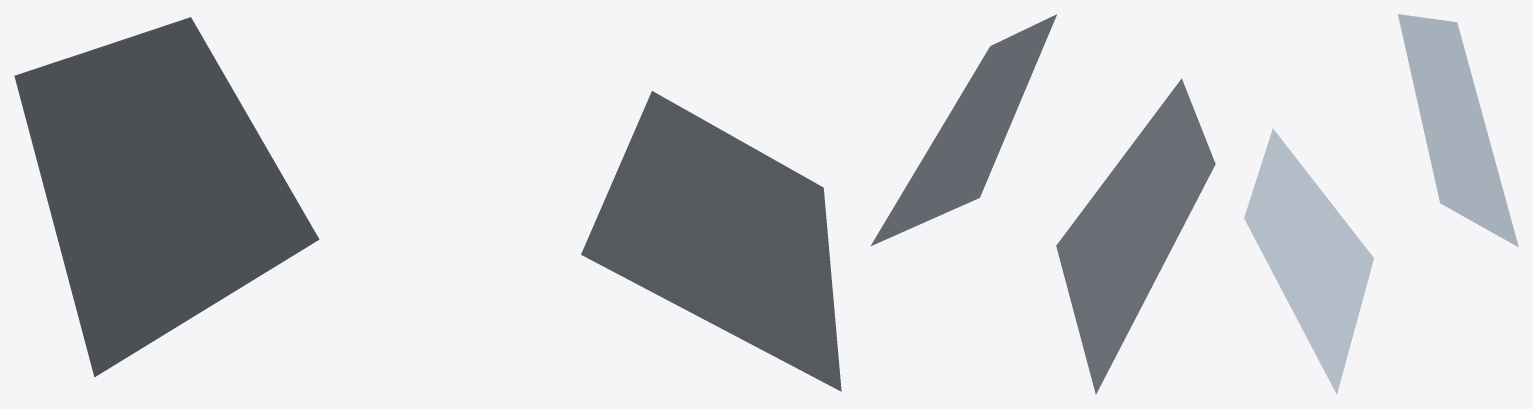
The model's file is intercuneiform-interosseous-ligaments-r.glb.
3 views of the same model, side by side, from view 1: azimuth 30°, elevation 25°; view 2: azimuth 150°, elevation 25°; view 3: azimuth 270°, elevation 25° (orthographic). The views are drawn at different scales.
Visible parts, largest first — view 1: Intercuneiform interosseous ligaments.r; view 2: Intercuneiform interosseous ligaments.r; view 3: Intercuneiform interosseous ligaments.r.
Boxes of the visible parts, x1,y1,x2,y2 form: Intercuneiform interosseous ligaments.r: (14, 17, 841, 391); Intercuneiform interosseous ligaments.r: (871, 14, 1215, 394); Intercuneiform interosseous ligaments.r: (1244, 14, 1518, 394).
Bounding box in the file's own units: 0.0177 × 0.0113 × 0.0119.
